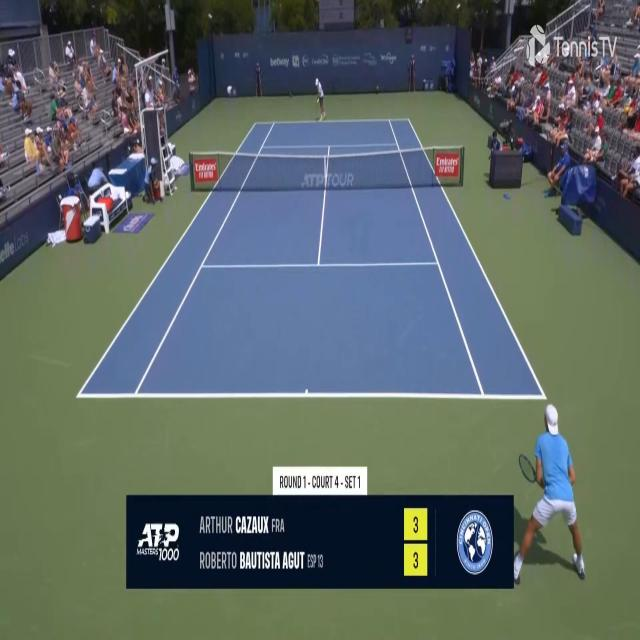tennis-player: (518, 399, 588, 579), (313, 76, 326, 122)
